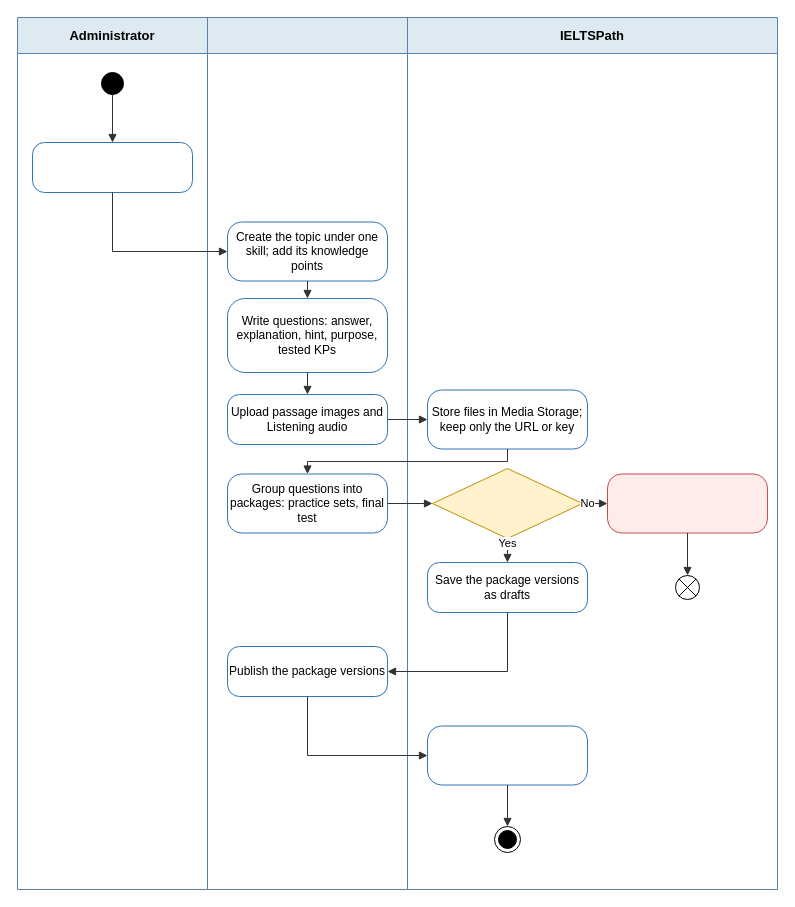
This 795x907 diagram has some shape labels left out. The box of each missing label's shape, as (x1, y1, x2, y2) in pixels:
Content Author: (206, 16, 408, 890)
Each question in one package only?: (432, 468, 582, 538)
Grant the author the CONTENT_AUTHOR role: (32, 142, 192, 192)
Reject: question already belongs to another package: (606, 473, 768, 533)
Topic and packages become available in the skill sequence: (426, 725, 588, 785)
